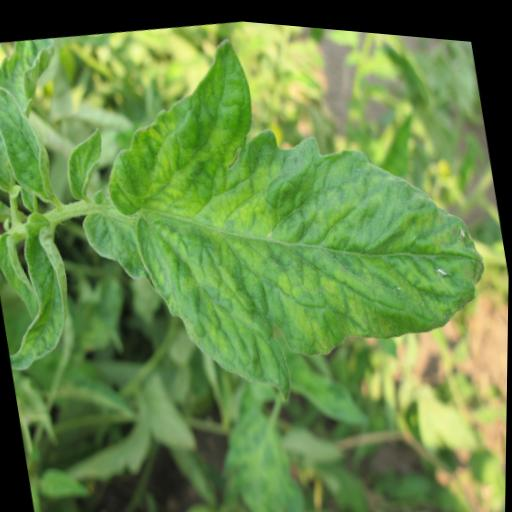Mosaic Virus: (47, 4, 510, 456)
